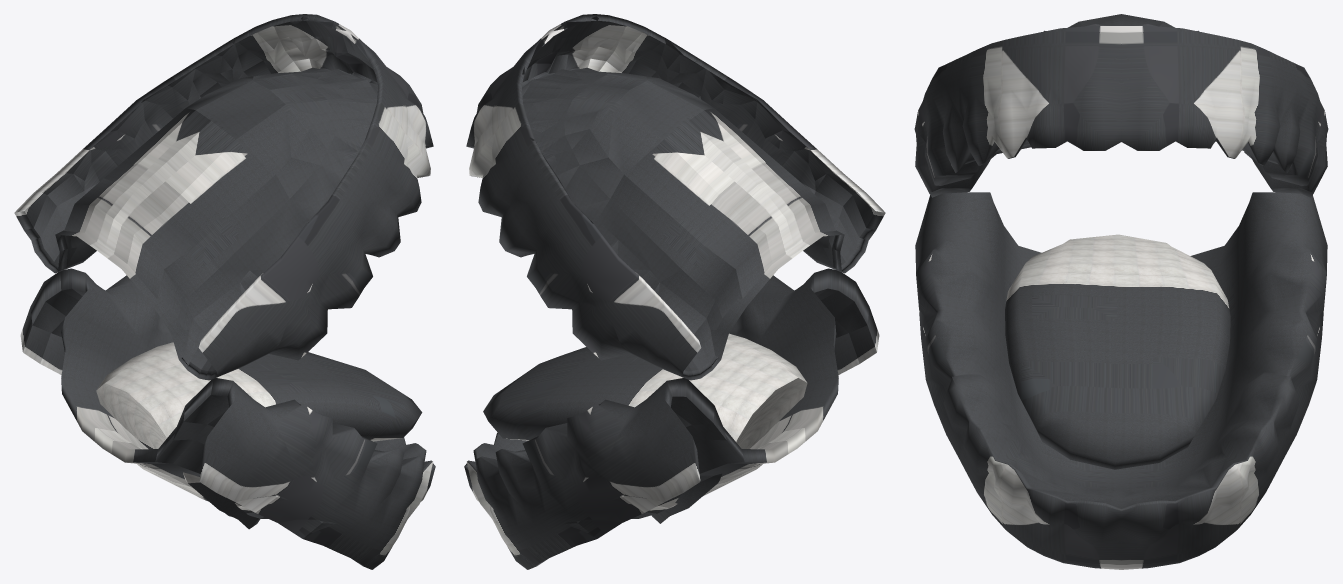
The model's file is mouth teeth.fbx.
3 views of the same model, side by side, from view 1: azimuth 30°, elevation 25°; view 2: azimuth 150°, elevation 25°; view 3: azimuth 270°, elevation 25° (orthographic). The views are drawn at different scales.
Parts seen in each view (by area): view 1: Plane.006, Plane.005, Plane.001; view 2: Plane.006, Plane.005, Plane.001; view 3: Plane.005, Plane.006, Plane.001.
Boxes of the visible parts, x1,y1,x2,y2 form: Plane.006: (14, 14, 433, 380); Plane.005: (20, 268, 435, 569); Plane.001: (96, 342, 422, 529); Plane.006: (466, 14, 885, 380); Plane.005: (464, 268, 879, 569); Plane.001: (483, 333, 807, 523); Plane.005: (915, 192, 1327, 569); Plane.006: (914, 14, 1328, 197); Plane.001: (1005, 234, 1230, 469).
Size of the model in its own units: 413 by 654 by 447.
